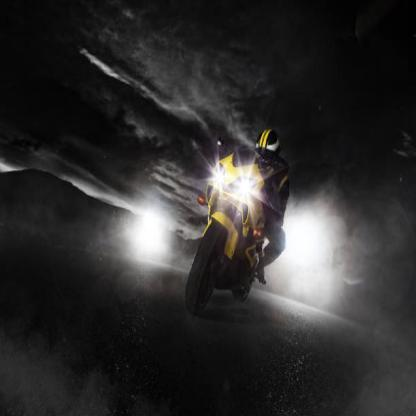Motorcycle: (183, 141, 282, 311)
